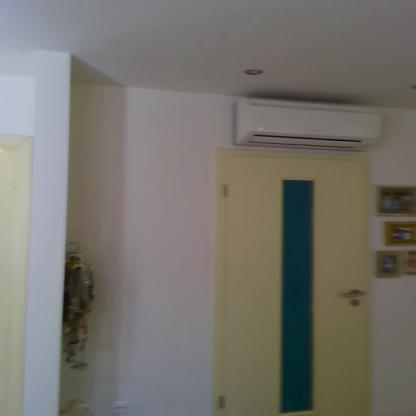door: (228, 160, 368, 415)
hinged: (219, 393, 226, 410), (222, 182, 228, 196)
lever: (340, 291, 368, 298)
